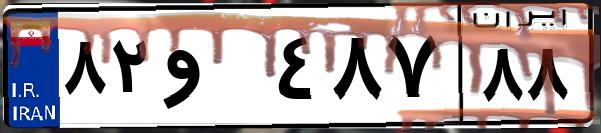2: (110, 28, 158, 98)
4: (270, 28, 330, 110)
7: (385, 28, 445, 110)
8: (330, 28, 385, 110), (57, 26, 110, 100), (475, 38, 525, 113), (525, 38, 570, 115)
و: (158, 20, 270, 120)
